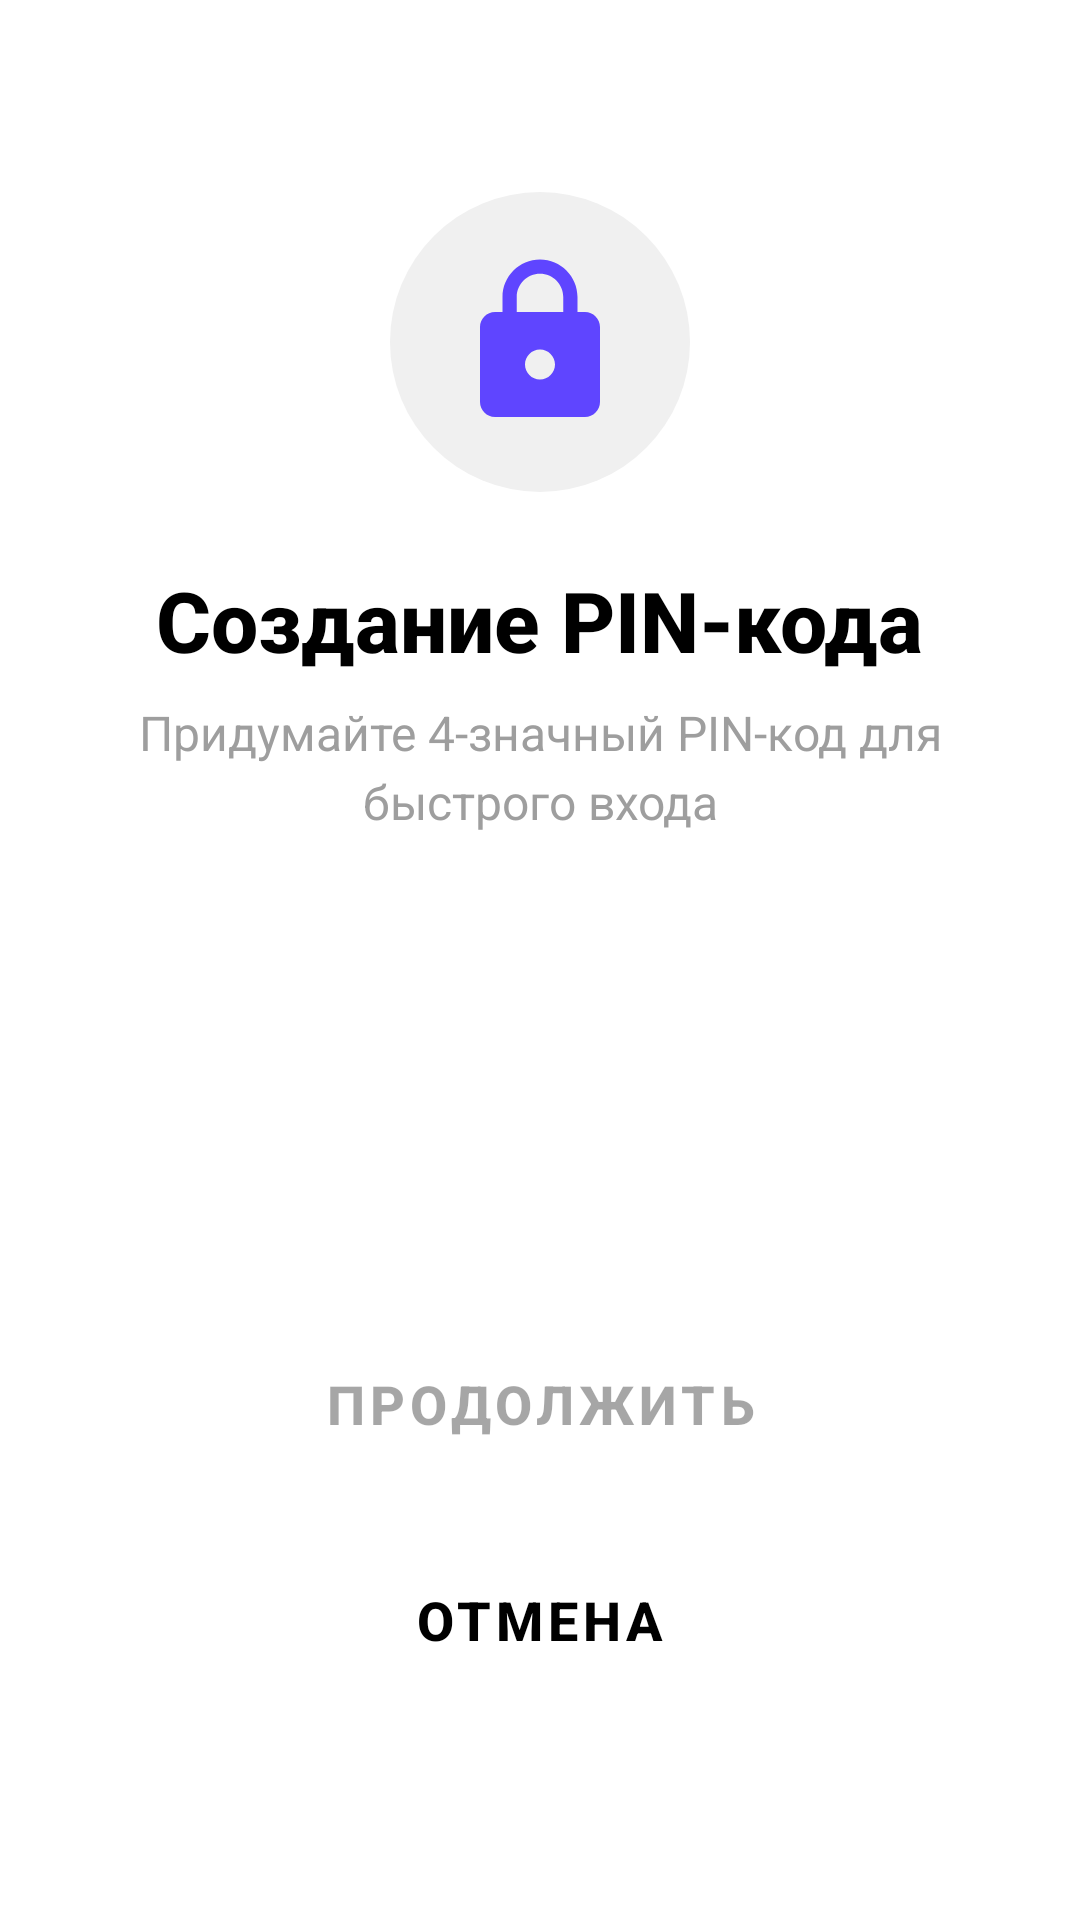

Where icons sit on this 1080×1920 app screen, as (x1=x1, y1=y1, x2=x2, y2=y2):
lock: (x1=480, y1=259, x2=600, y2=417)
